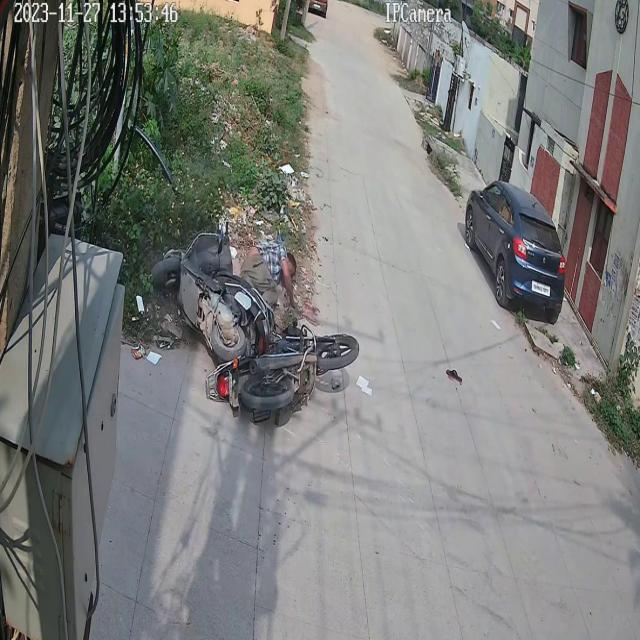accident: (143, 207, 365, 425)
